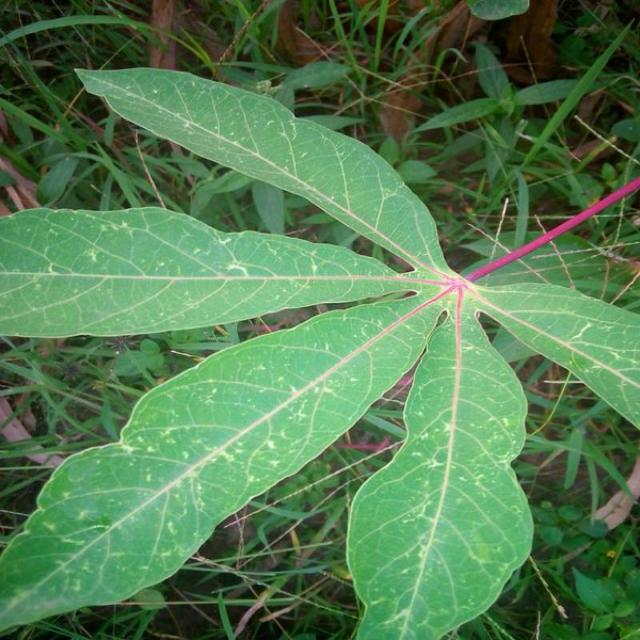cassava leaf: (2, 62, 640, 637), (347, 287, 536, 638), (1, 204, 417, 339)
